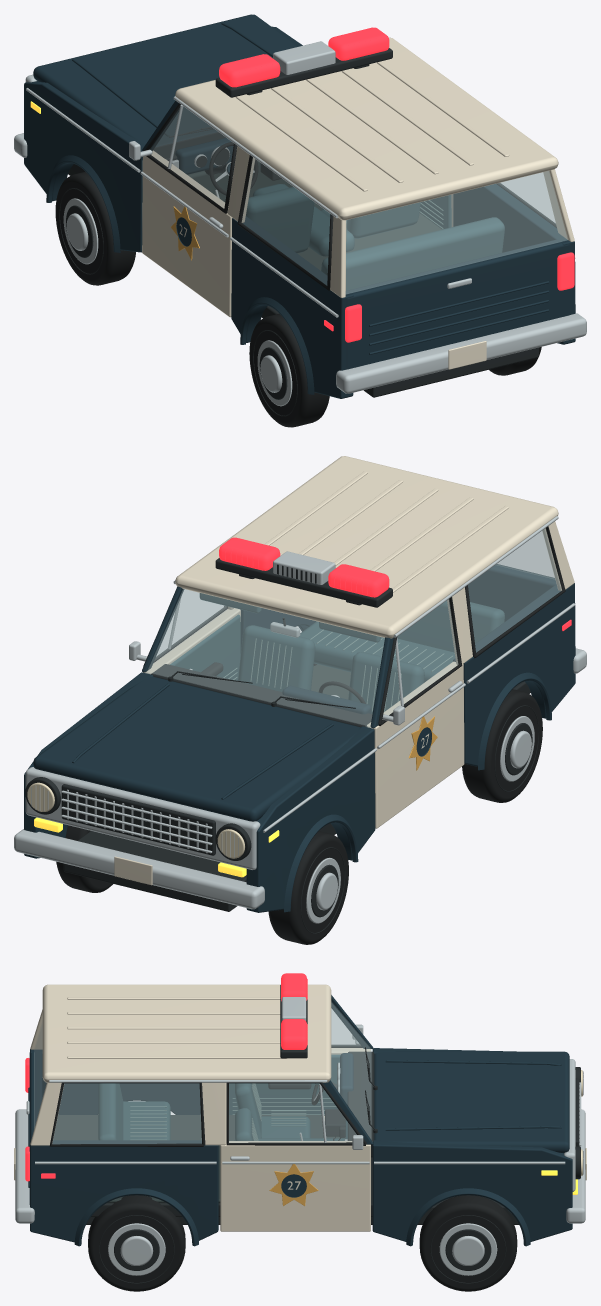
File: TrailDuster.fbx
3 views of the same model, one above another, from view 1: azimuth 30°, elevation 25°; view 2: azimuth 150°, elevation 25°; view 3: azimuth 270°, elevation 25° (orthographic). The views are drawn at different scales.
Parts seen in each view (by area): view 1: TrailDuster; view 2: TrailDuster; view 3: TrailDuster.
Part boxes in pixels (box(x1,y1,x2,y2)): TrailDuster: box(14, 14, 586, 427); TrailDuster: box(14, 456, 586, 944); TrailDuster: box(14, 973, 586, 1291).
Size of the model in its own units: 240 by 236 by 513.
